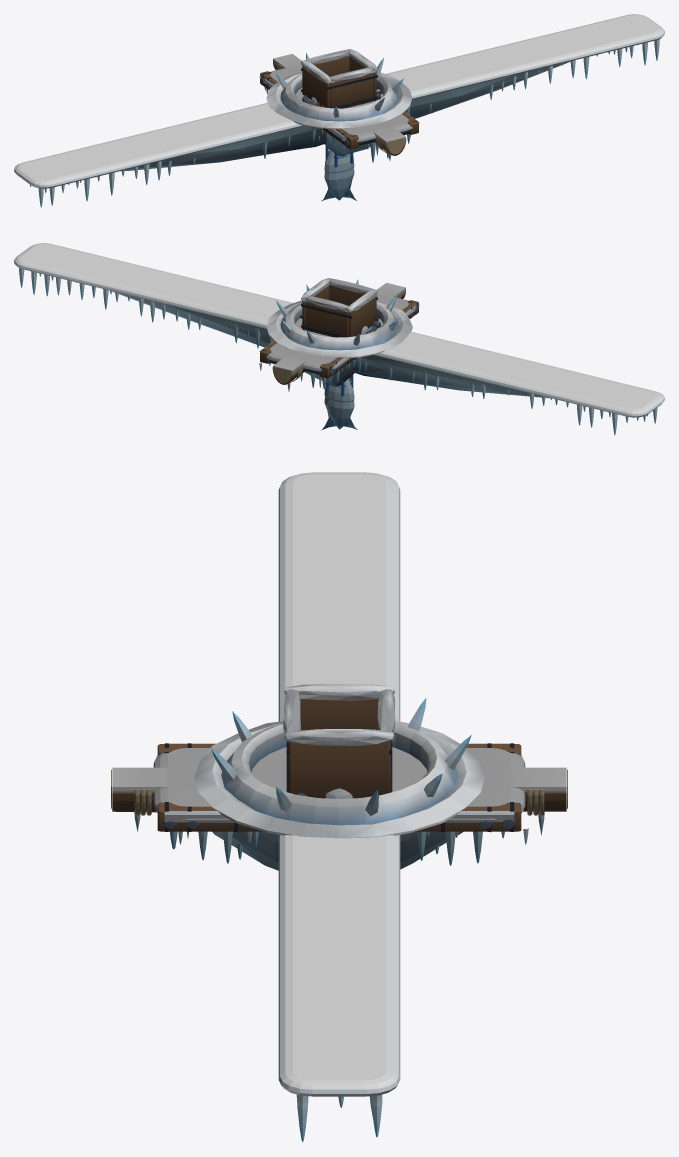
Rendered from glacier-1-BoD0r5vy.glb.
The picture shows the model from 3 angles, top to bottom: view 1: azimuth 30°, elevation 25°; view 2: azimuth 150°, elevation 25°; view 3: azimuth 270°, elevation 25°; orthographic projection. The views are drawn at different scales.
Visible parts, largest first — view 1: block_64x2x5#0, geyserVent_8#0, hopper_3.6x3#0, block_7x2x16#0, beam_2x1.5x20_plank#0, belt_7x1.5x16x0#0, blade_3x10x1_wheel#0, block_3.5x2x16#0, blade_3x9x1#0; view 2: block_64x2x5#0, geyserVent_8#0, hopper_3.6x3#0, block_7x2x16#0, beam_2x1.5x20_plank#0, belt_7x1.5x16x0#0, blade_3x10x1_wheel#0, blade_3x9x1#0, block_3.5x2x16#0; view 3: block_64x2x5#0, geyserVent_8#0, hopper_3.6x3#0, block_7x2x16#0, beam_2x1.5x20_plank#0, belt_7x1.5x16x0#0, block_3.5x2x16#0, belt_7x1.5x14x0#0.
Part boxes in pixels (x1,y1,x2,y2): block_64x2x5#0: (14, 14, 664, 207); geyserVent_8#0: (266, 53, 412, 129); hopper_3.6x3#0: (301, 49, 377, 108); block_7x2x16#0: (263, 68, 412, 156); beam_2x1.5x20_plank#0: (273, 54, 406, 160); belt_7x1.5x16x0#0: (259, 71, 419, 152); blade_3x10x1_wheel#0: (324, 167, 354, 200); block_3.5x2x16#0: (285, 65, 393, 162); blade_3x9x1#0: (324, 150, 354, 173); block_64x2x5#0: (14, 243, 664, 435); geyserVent_8#0: (266, 279, 412, 358); hopper_3.6x3#0: (301, 278, 377, 337); block_7x2x16#0: (266, 297, 415, 389); beam_2x1.5x20_plank#0: (272, 283, 405, 391); belt_7x1.5x16x0#0: (259, 300, 419, 387); blade_3x10x1_wheel#0: (324, 396, 354, 429); blade_3x9x1#0: (324, 379, 354, 402); block_3.5x2x16#0: (285, 293, 392, 387); block_64x2x5#0: (278, 472, 400, 1141); geyserVent_8#0: (194, 698, 484, 838); hopper_3.6x3#0: (283, 684, 395, 798); block_7x2x16#0: (153, 748, 525, 870); beam_2x1.5x20_plank#0: (111, 767, 567, 838); belt_7x1.5x16x0#0: (157, 743, 528, 845); block_3.5x2x16#0: (166, 764, 512, 849); belt_7x1.5x14x0#0: (181, 743, 504, 841).
Size of the model in its own units: 64.36 by 13.93 by 20.12.
